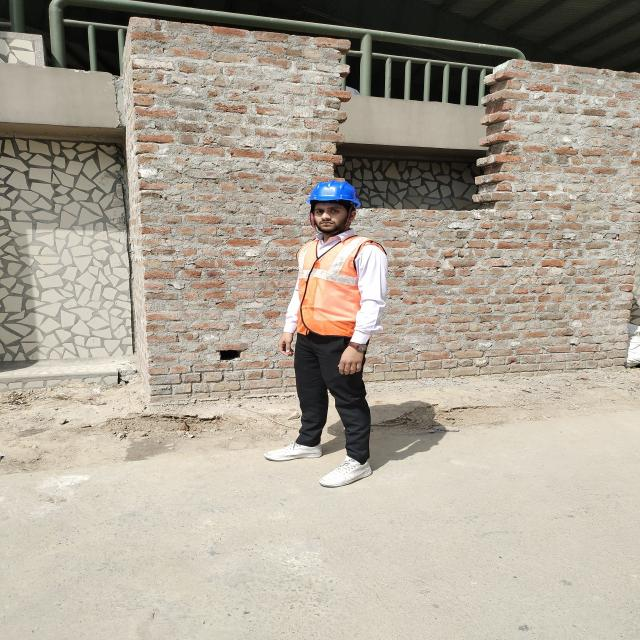safe: (291, 181, 388, 485)
